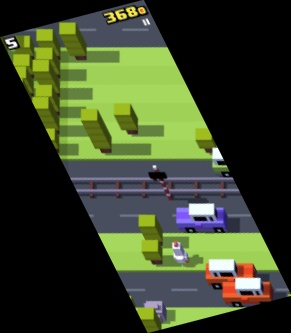car: (176, 202, 229, 234), (211, 147, 261, 178), (205, 260, 258, 289), (222, 277, 273, 306)
duck: (171, 242, 191, 266)
light off: (148, 165, 176, 202)
rail: (67, 177, 253, 197)
rock: (143, 300, 167, 324)
tree: (80, 108, 114, 153), (33, 59, 62, 97), (60, 23, 88, 61), (32, 97, 60, 133), (138, 215, 166, 247), (33, 47, 61, 78), (114, 104, 141, 136), (35, 84, 61, 116), (36, 29, 60, 59), (135, 307, 162, 333), (13, 66, 35, 96), (195, 127, 218, 155), (141, 239, 165, 265), (14, 35, 36, 62), (13, 53, 35, 78), (40, 128, 61, 153)
